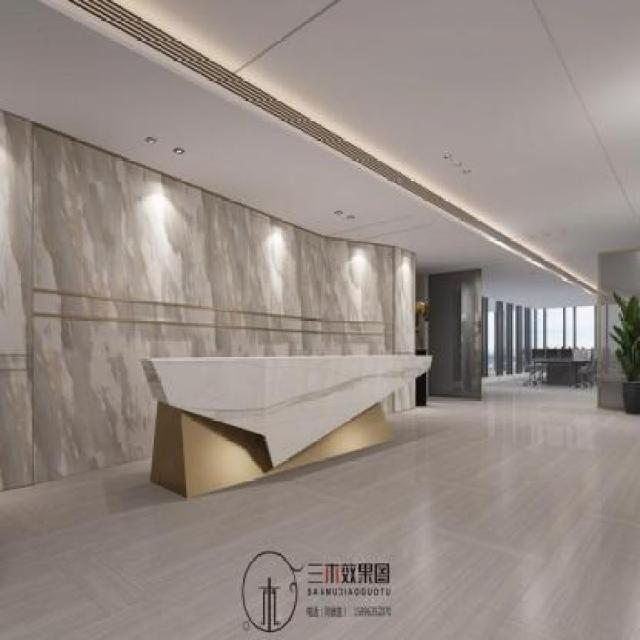frontdesk: (138, 346, 436, 509)
